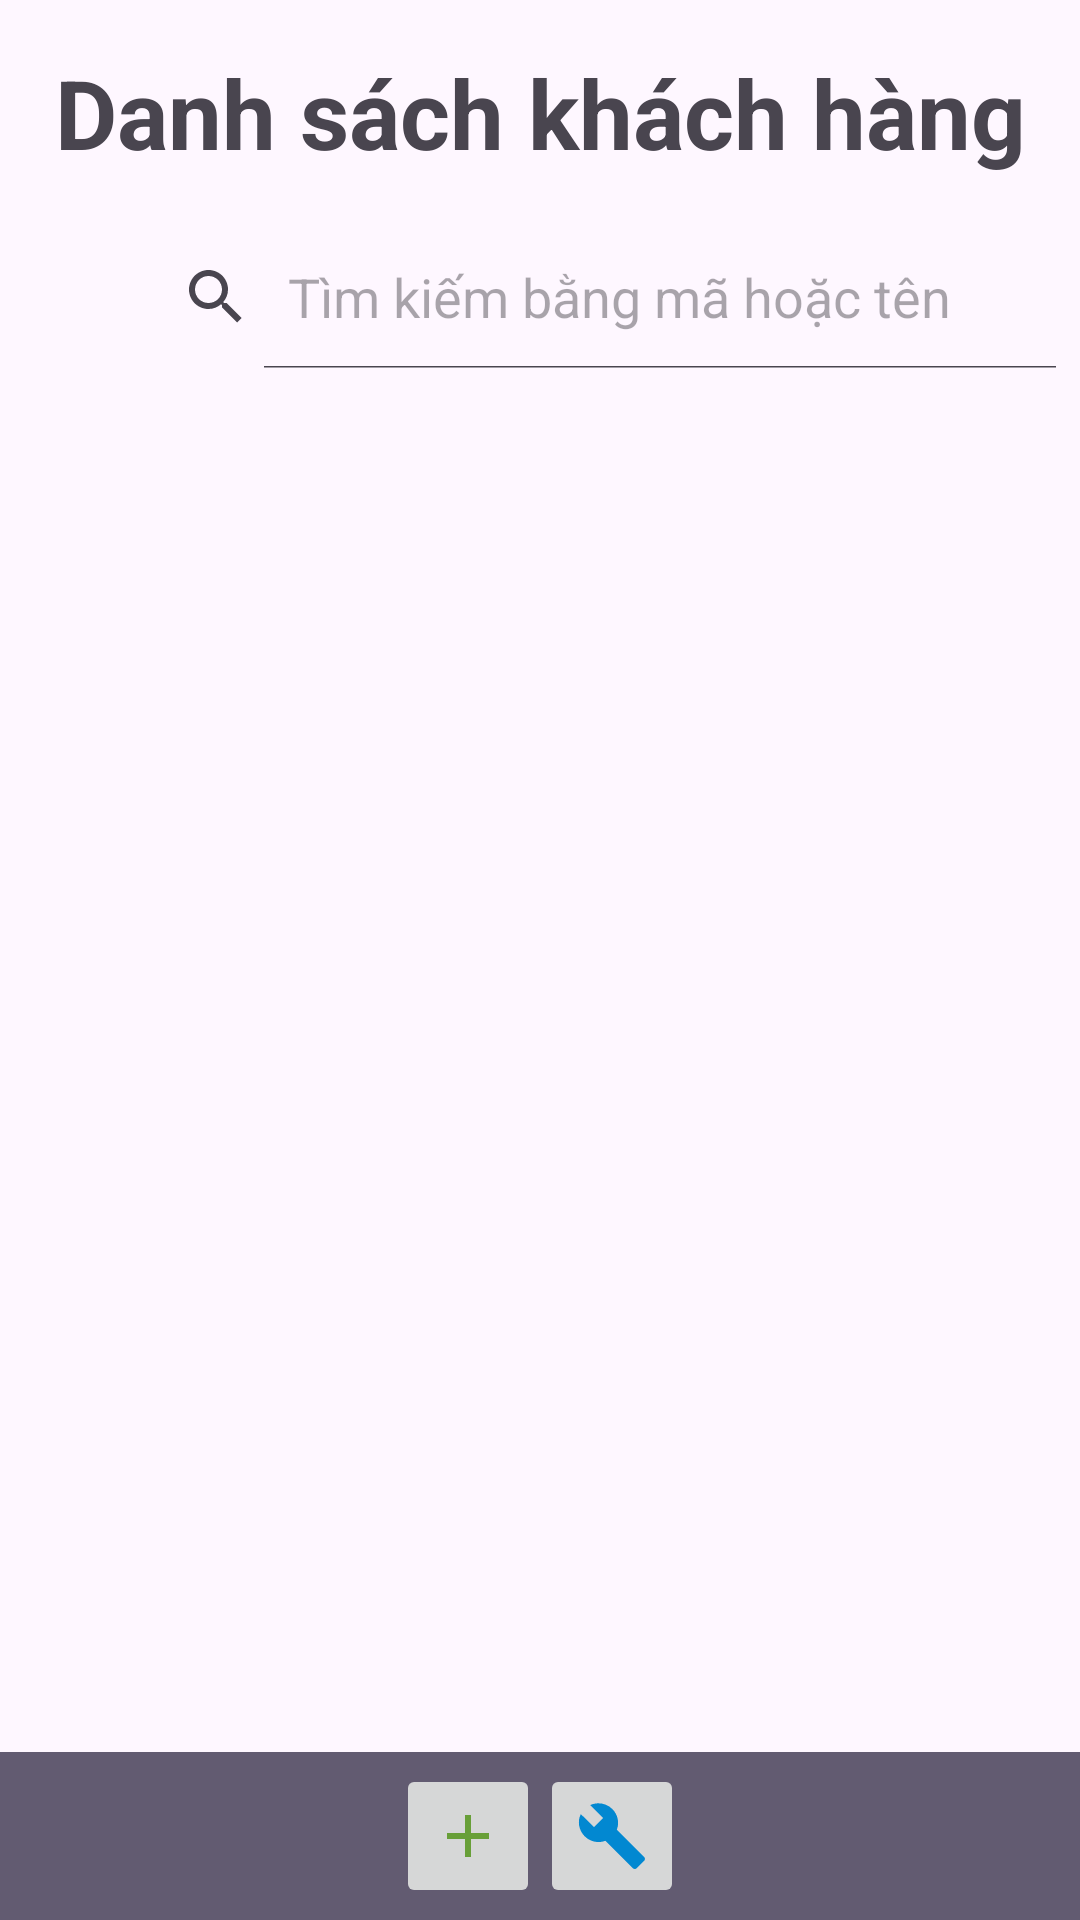

Locate icon controls on the screen. Image size 1080x1920, boxes as (x1, y1, x2, y2).
add: (408, 1782, 528, 1890)
build: (552, 1782, 672, 1890)
